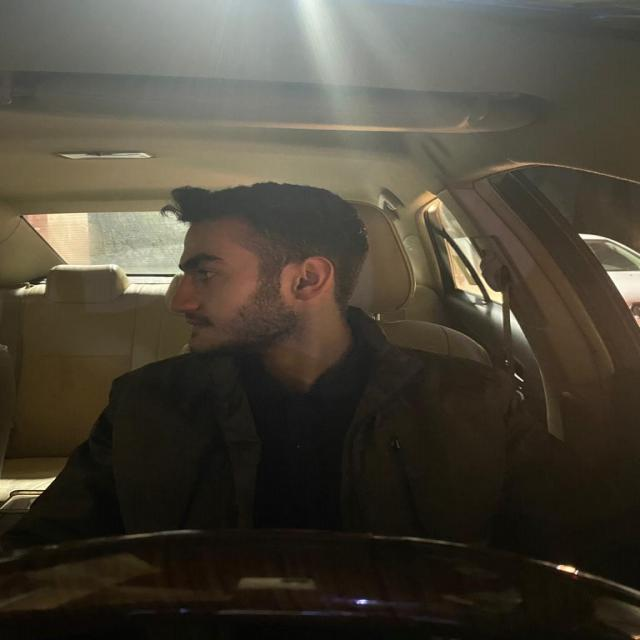LeftRight: (150, 174, 378, 398)
